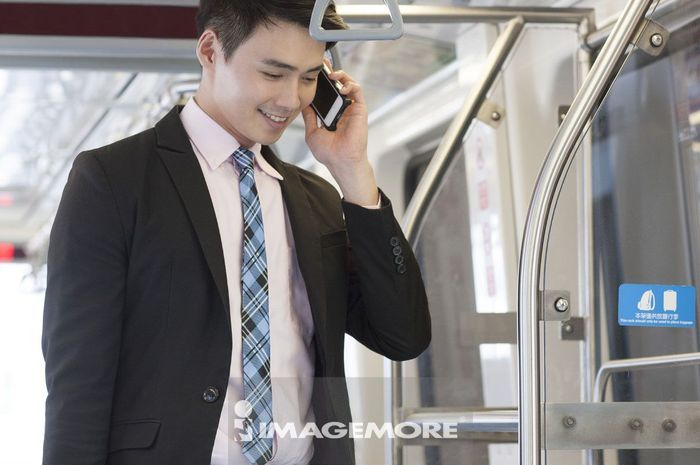phone: (315, 62, 352, 130)
talk: (246, 54, 371, 178)
